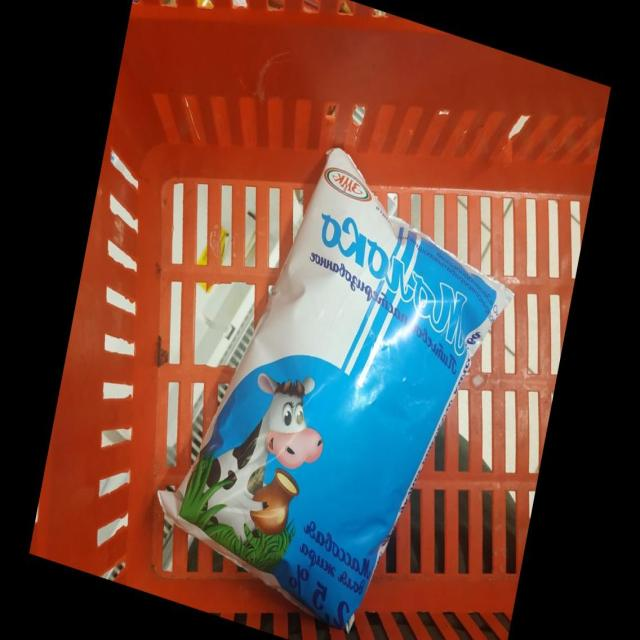Milk: (159, 147, 512, 628)
